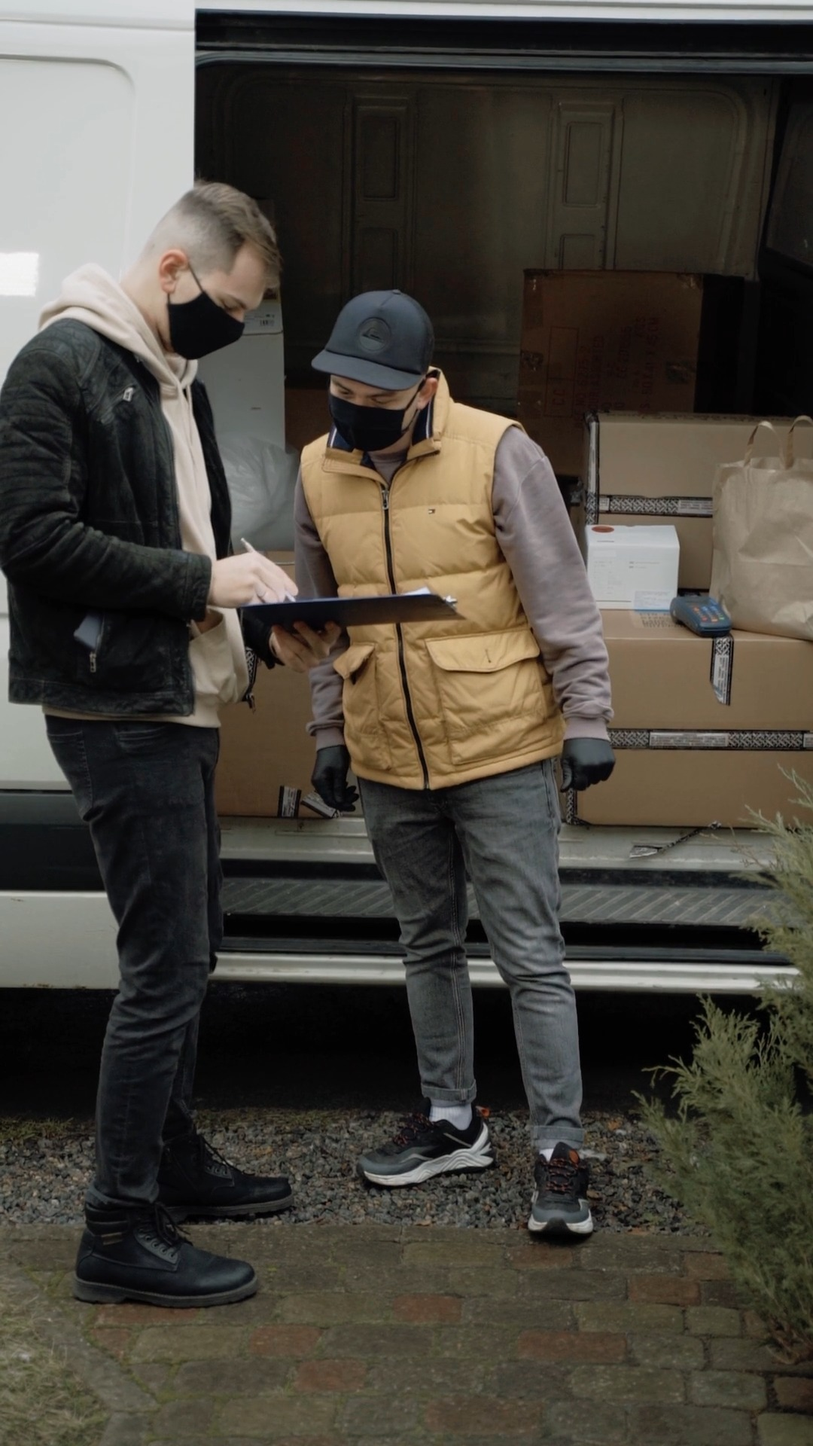No-gloves: (203, 537, 318, 625)
gloves: (299, 741, 381, 829), (555, 723, 638, 794)
